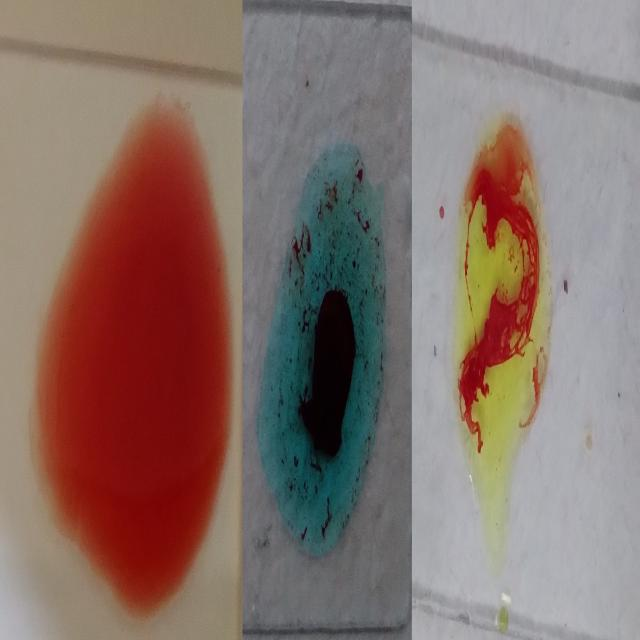A: (262, 140, 389, 557)
B: (449, 113, 554, 510)
